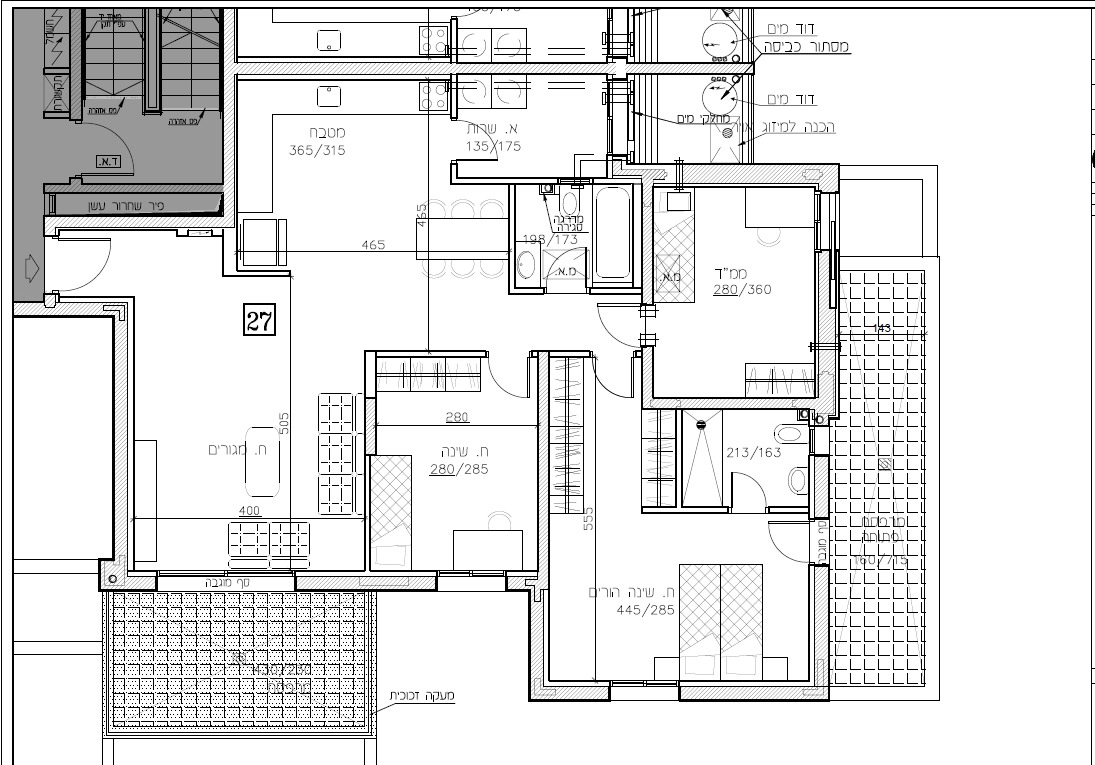door: (87, 119, 150, 181), (61, 236, 117, 295), (442, 118, 506, 168), (583, 297, 628, 350), (589, 362, 638, 409), (762, 516, 804, 568), (541, 243, 589, 284), (488, 363, 536, 404), (729, 465, 766, 498)
wall: (96, 294, 132, 564), (220, 14, 242, 232), (242, 61, 604, 73), (815, 562, 833, 702), (537, 347, 547, 576)
window: (150, 565, 299, 597), (430, 565, 511, 596), (604, 672, 681, 704)
